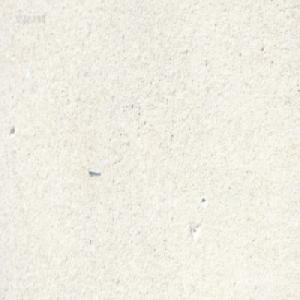Nail: (87, 165, 100, 174)
